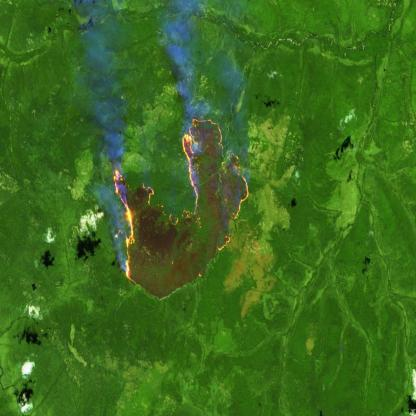fire: (111, 112, 250, 288)
